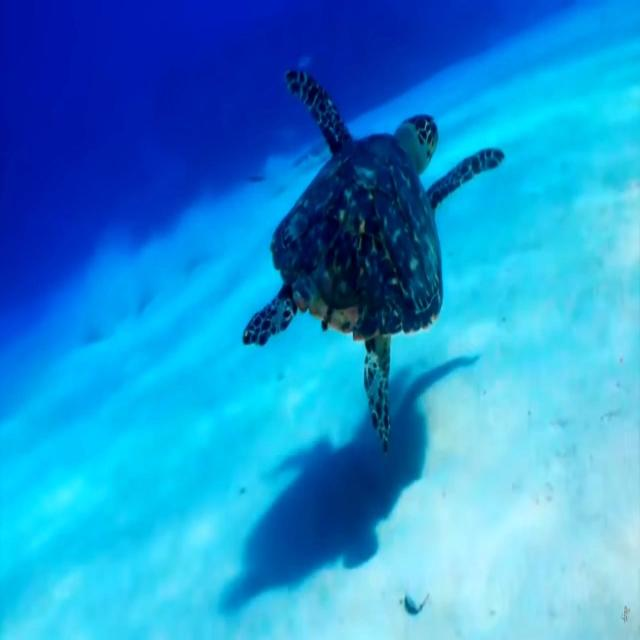Sea turtle: (242, 59, 504, 456)
